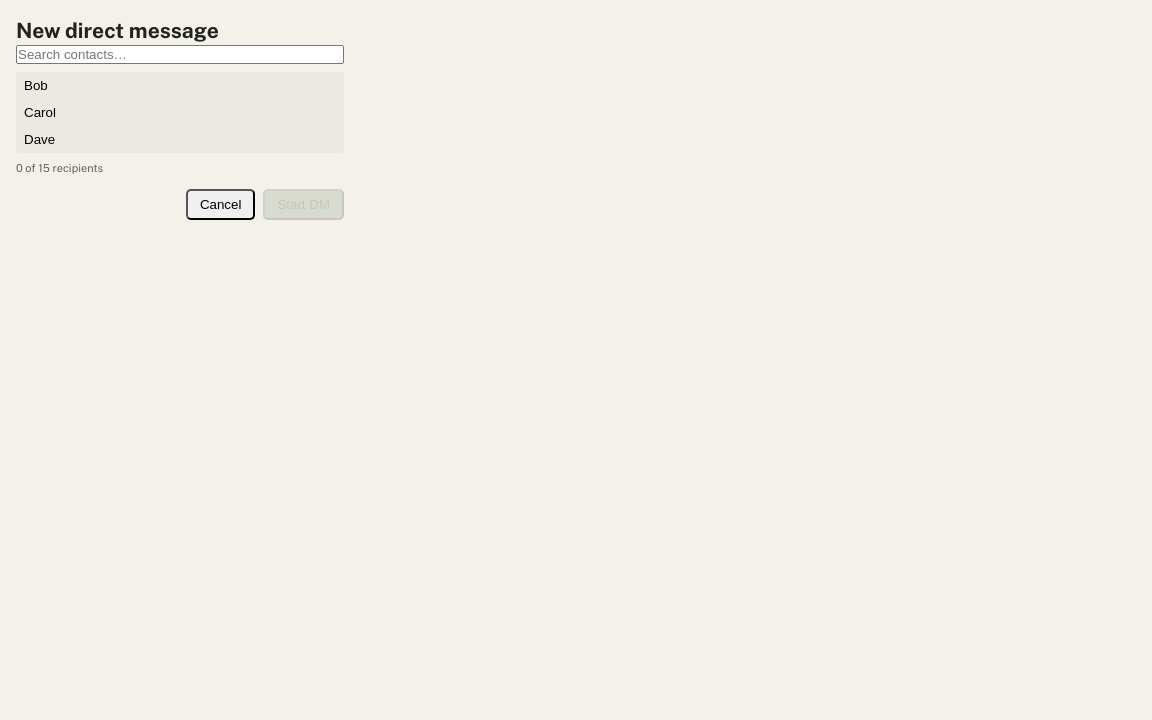
Test case: DmCreateDialog › removing a chip deselects and re-enables that contact
Select Bob — a chip should appear, and Bob should disappear from the list.
Click the button "Bob": {"x": 36, "y": 86} left=16, top=72, right=344, bottom=99
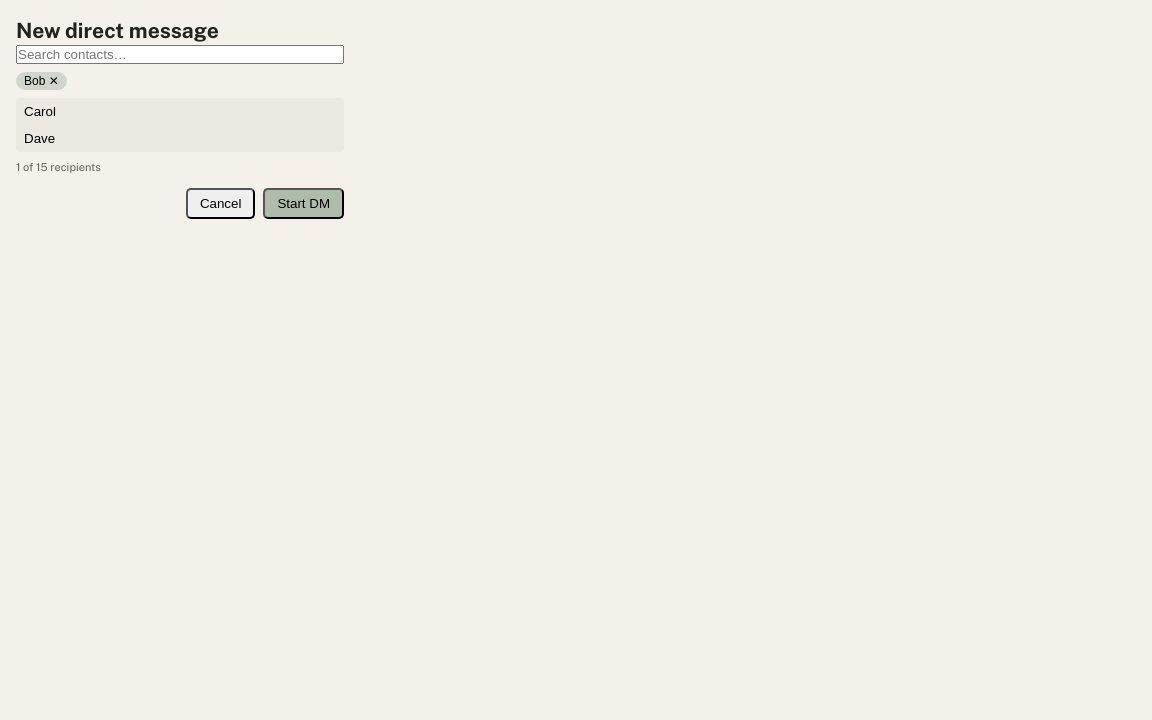
Result: the button with aria-label "remove bob" is shown
Result: the text "1 of 15 recipients" is shown at left=16, top=161, right=101, bottom=173
Click the chip to deselect.
Click the button with aria-label "remove bob": {"x": 41, "y": 81} left=16, top=72, right=67, bottom=90
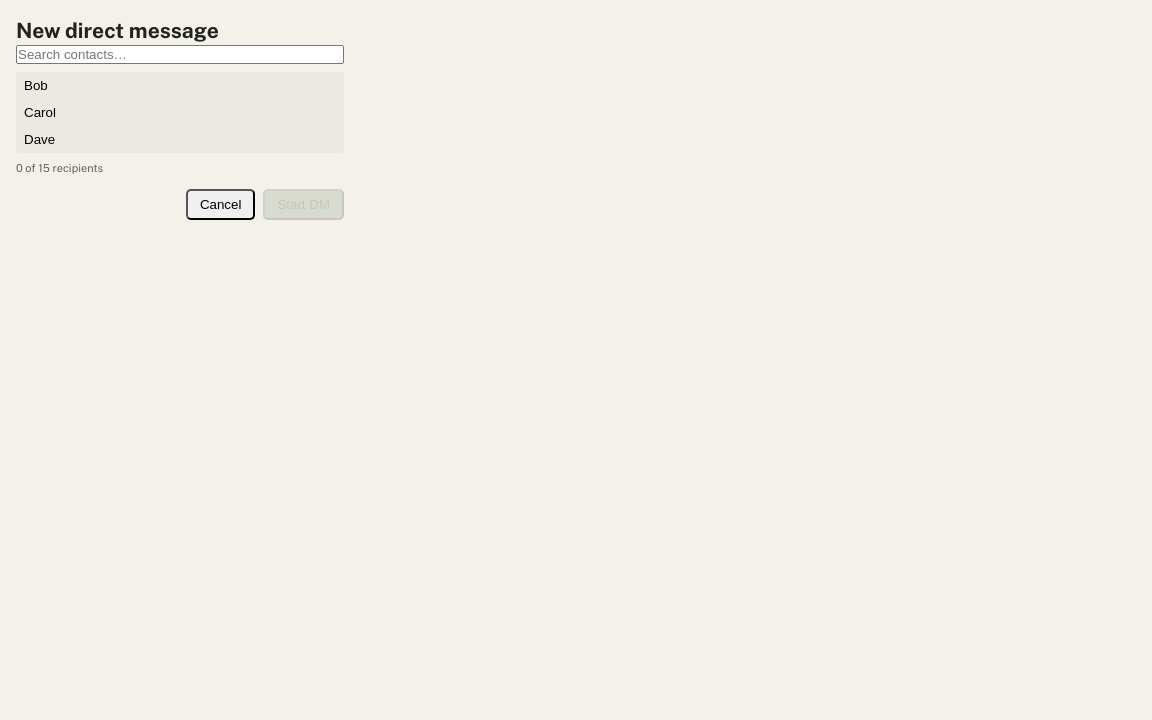
Expected: the text "Bob" is shown, left=24, top=78, right=48, bottom=93
Result: the text "0 of 15 recipients" is shown at left=16, top=162, right=103, bottom=174
